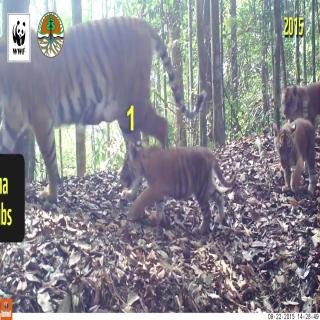Tiger: (0, 16, 211, 137), (120, 126, 234, 236), (272, 116, 314, 194), (276, 73, 320, 111)
